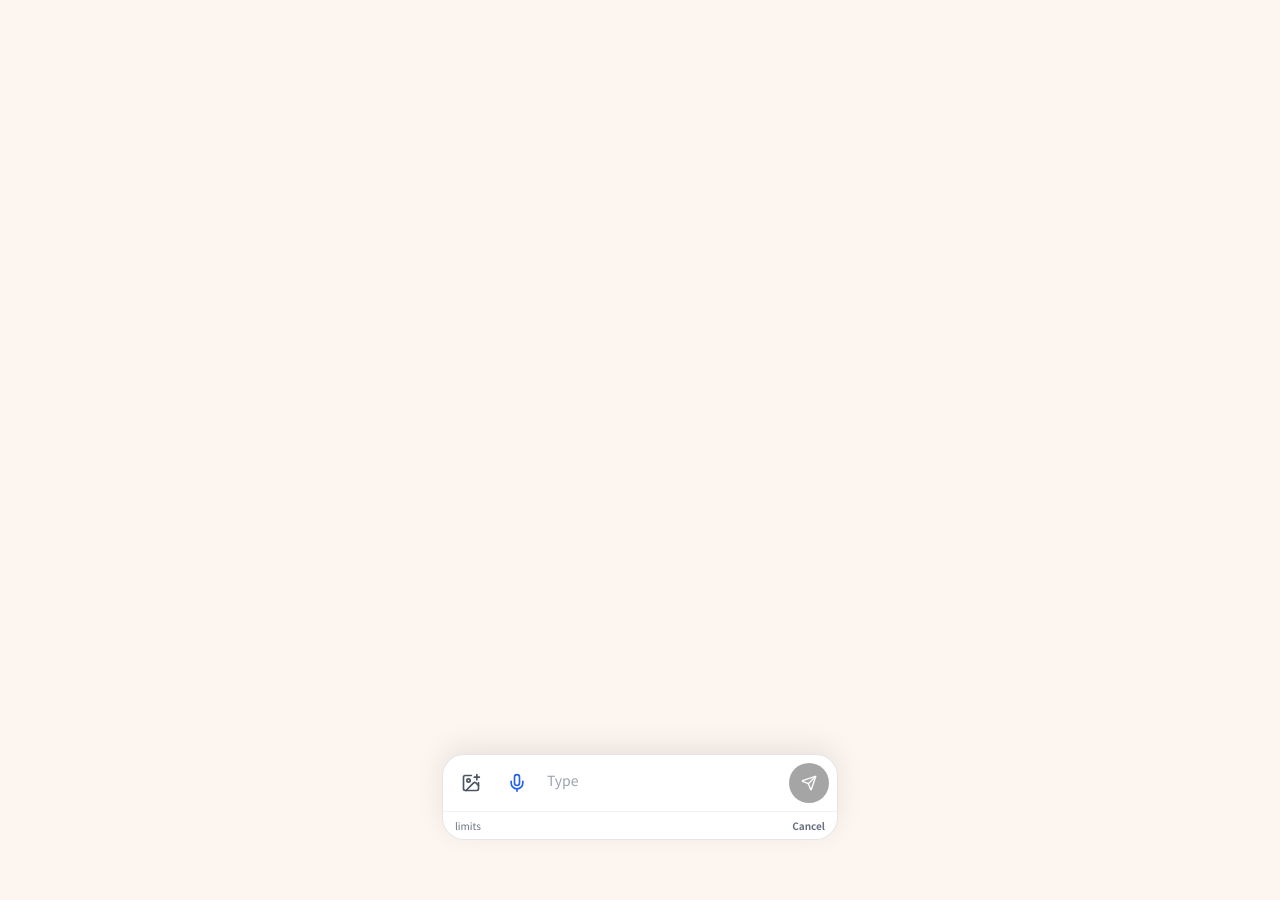
Scenario: ChatComposer media adapter › keeps text-note fallback when mic permission is denied
Click the button named "Recording" at (517, 783), box top-left (497, 763), bottom-right (537, 803)
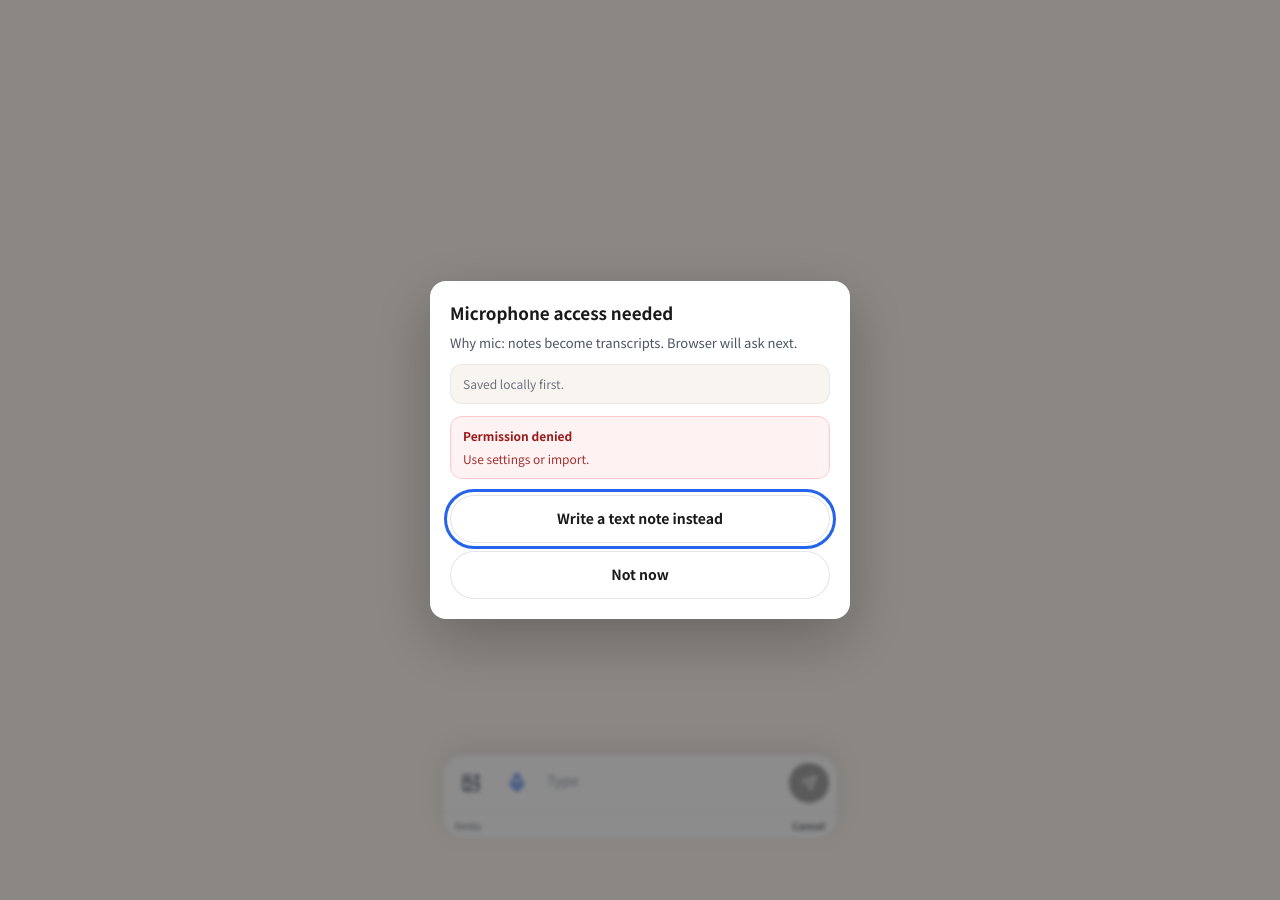
Expected: the dialog "Microphone access needed" is shown, top-left (430, 282), bottom-right (850, 618)
Expected: the button "Write a text note instead" is shown, top-left (450, 494), bottom-right (830, 542)
